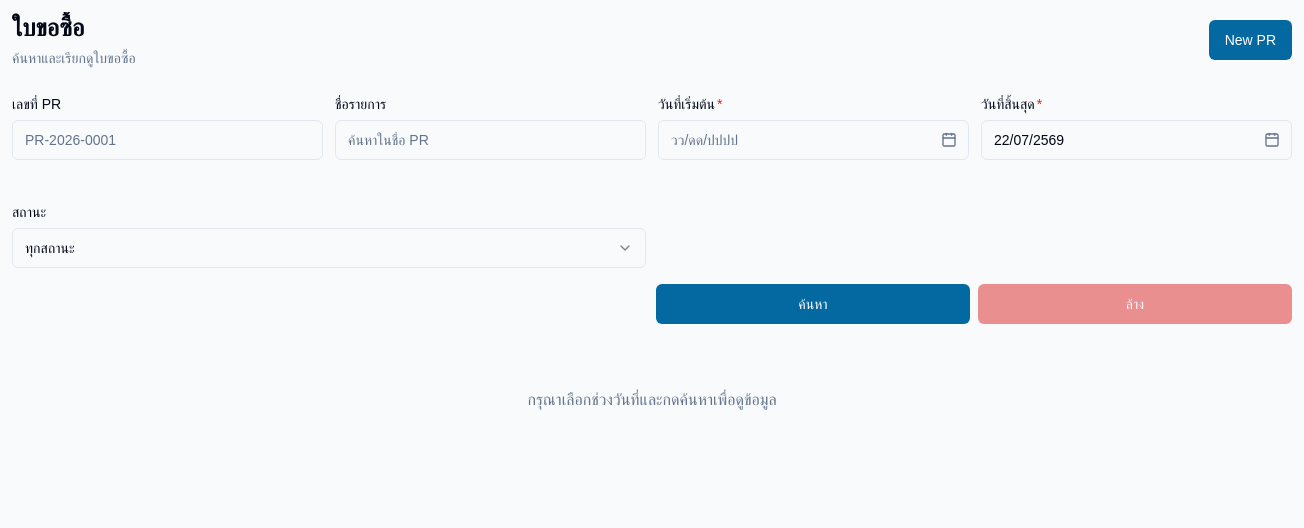
Test: PRListPage › shows Edit/Delete on a draft row for the employee owner
Type "01012569" into the field labelled "วันที่เริ่มต้น*" at x=814, y=140, box x1=658 y1=120 x2=969 y2=160
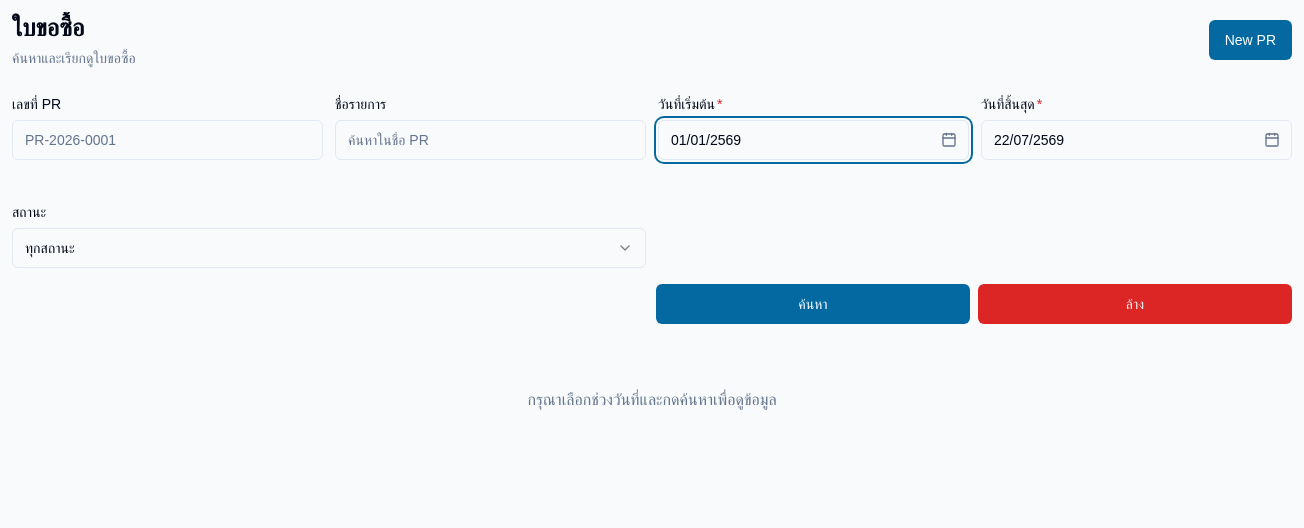
Replace the text in the field labelled "วันที่สิ้นสุด*" with "31122569" at x=1136, y=140, box x1=981 y1=120 x2=1292 y2=160
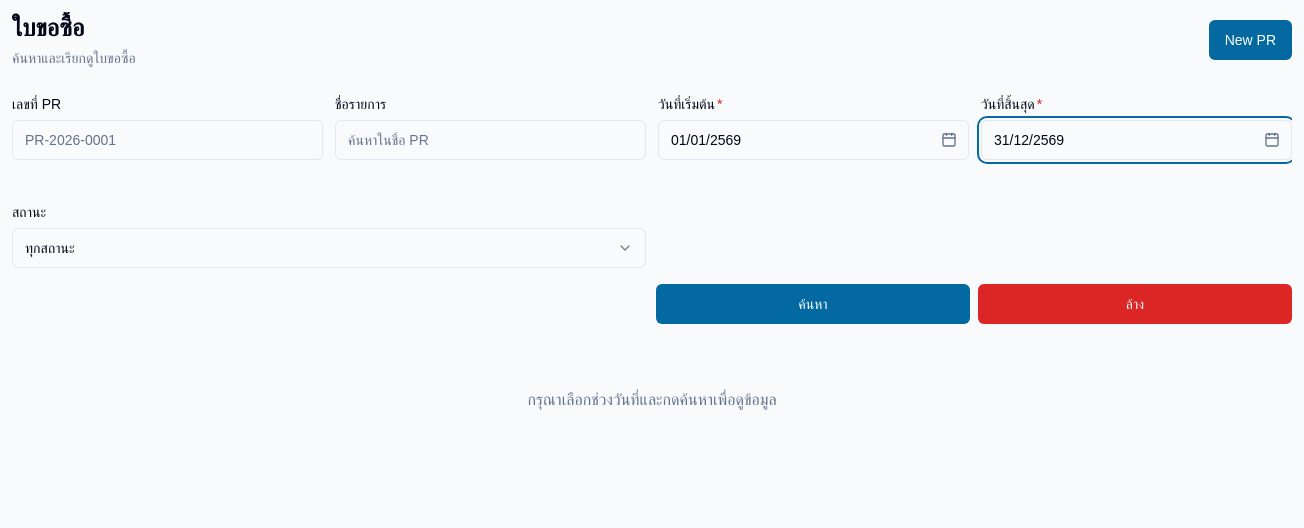
Click the button "ค้นหา" at x=813, y=304, box x1=656 y1=284 x2=970 y2=324
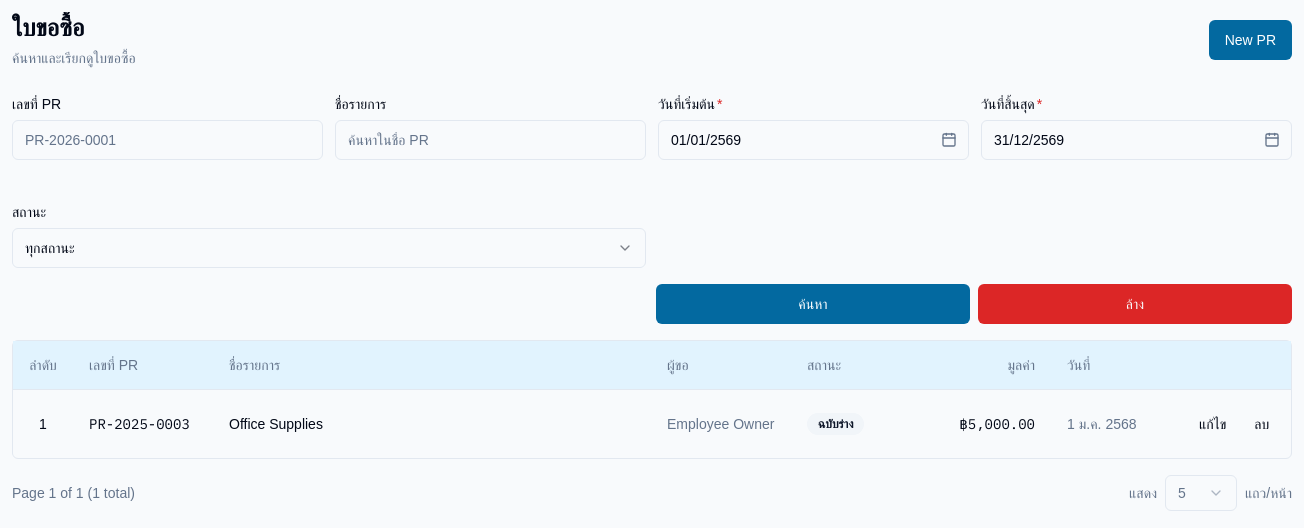
expect the text "กรุณาเลือกช่วงวันที่และกดค้นหา" is gone: met
expect the button "ลบ" is shown: met, box x1=1242 y1=406 x2=1281 y2=442
